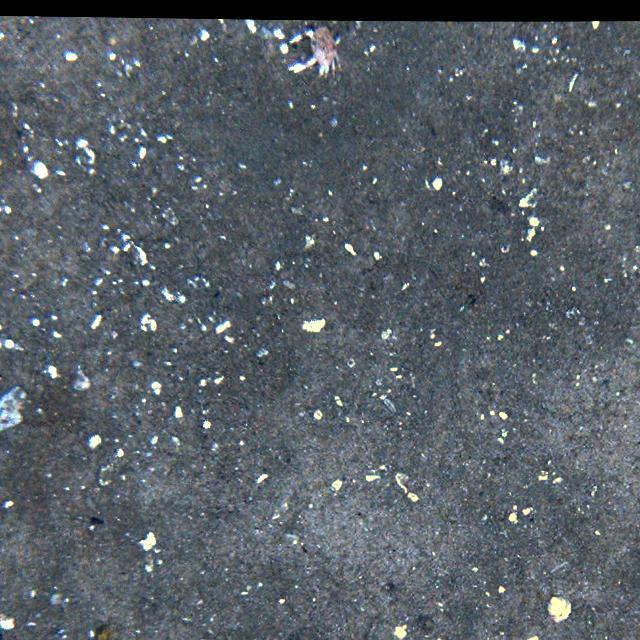crab: (296, 24, 346, 78)
